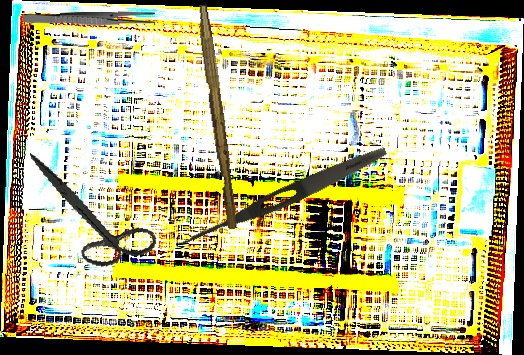Dressing Forceps: (177, 141, 390, 255), (22, 10, 156, 28)
Iris Scissors: (10, 152, 169, 278)
Scalpel Handle: (191, 4, 243, 230)
